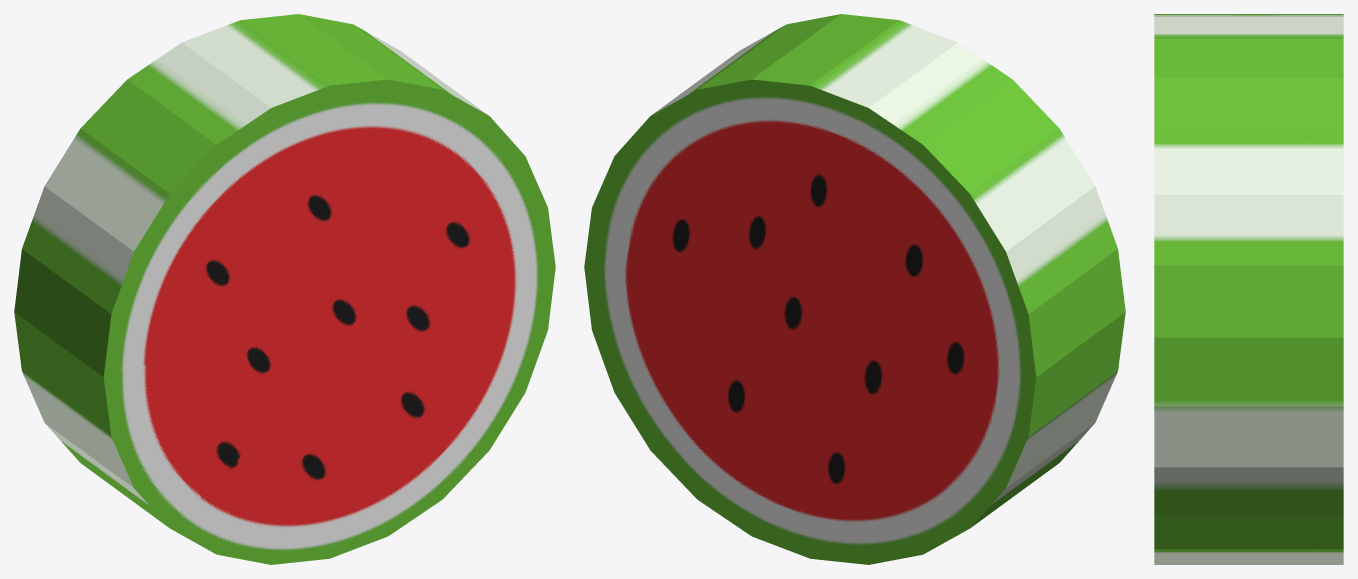
Rendered from Candy_Piece.fbx.
The picture shows the model from 3 angles, left to right: view 1: azimuth 30°, elevation 25°; view 2: azimuth 150°, elevation 25°; view 3: azimuth 270°, elevation 25°; orthographic projection. The views are drawn at different scales.
Visible parts, largest first — view 1: Candy_Piece_02, Candy_Piece_01, Candy_Piece_03, Candy_Piece_05, Candy_Piece_07, Candy_Piece_08, Candy_Piece_06, Candy_Piece_04; view 2: Candy_Piece_02, Candy_Piece_01, Candy_Piece_03, Candy_Piece_05, Candy_Piece_07, Candy_Piece_08, Candy_Piece_06, Candy_Piece_04; view 3: Candy_Piece_03, Candy_Piece_08, Candy_Piece_01.
Part boxes in pixels (bbox=[...]): Candy_Piece_02: bbox=[14, 79, 291, 377]; Candy_Piece_01: bbox=[127, 14, 388, 216]; Candy_Piece_03: bbox=[299, 14, 555, 283]; Candy_Piece_05: bbox=[14, 312, 273, 528]; Candy_Piece_07: bbox=[170, 411, 442, 564]; Candy_Piece_08: bbox=[385, 267, 555, 498]; Candy_Piece_06: bbox=[238, 284, 434, 423]; Candy_Piece_04: bbox=[239, 193, 434, 336]; Candy_Piece_02: bbox=[848, 79, 1125, 377]; Candy_Piece_01: bbox=[751, 14, 1012, 216]; Candy_Piece_03: bbox=[584, 14, 840, 283]; Candy_Piece_05: bbox=[866, 312, 1125, 528]; Candy_Piece_07: bbox=[697, 411, 969, 564]; Candy_Piece_08: bbox=[584, 267, 754, 498]; Candy_Piece_06: bbox=[705, 284, 901, 423]; Candy_Piece_04: bbox=[705, 193, 900, 336]; Candy_Piece_03: bbox=[1154, 77, 1343, 406]; Candy_Piece_08: bbox=[1154, 406, 1343, 564]; Candy_Piece_01: bbox=[1154, 14, 1343, 77].
Size of the model in its own units: 100 by 100 by 34.28.
